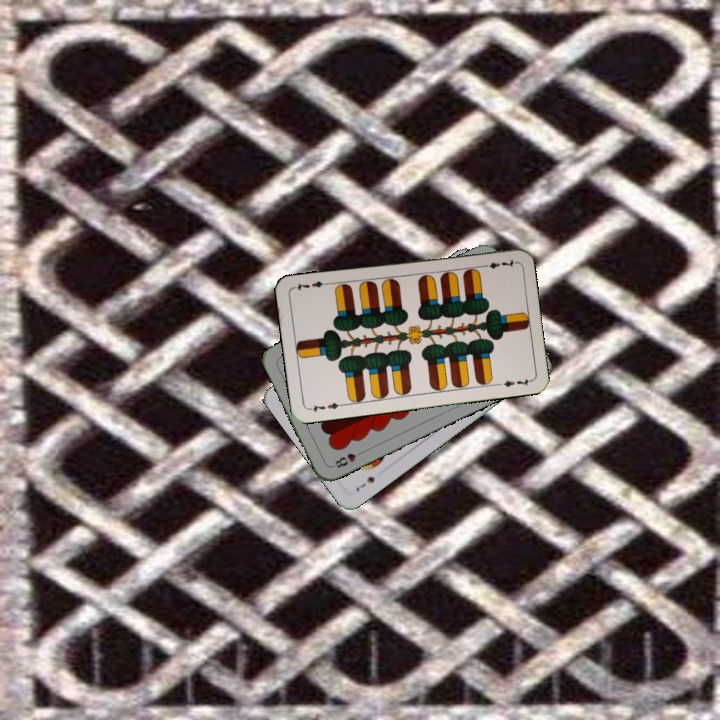E7: (477, 255, 518, 271), (305, 399, 346, 414)
H8: (328, 446, 366, 471)
S7: (352, 472, 377, 494)
